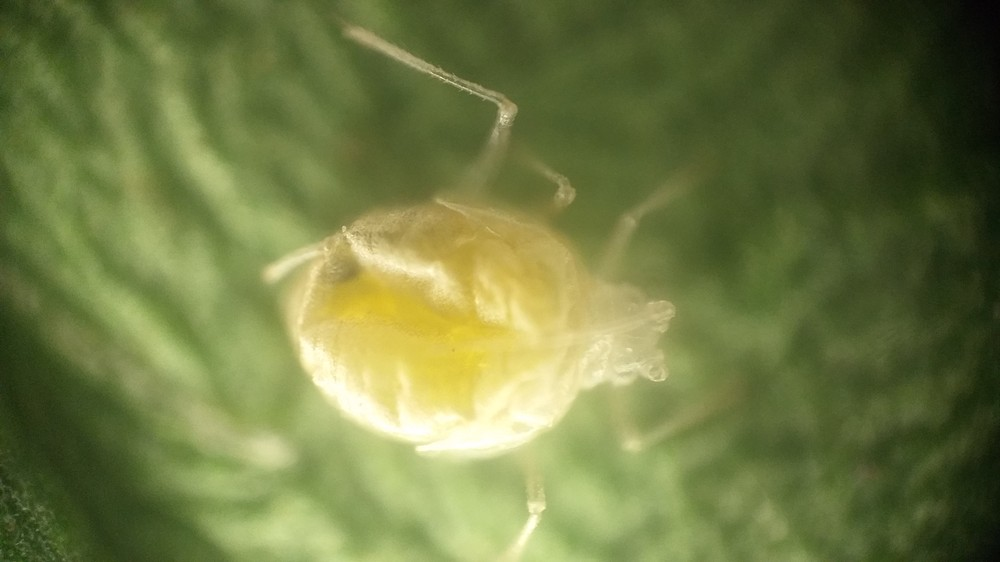Pulgon: (207, 36, 754, 548)
